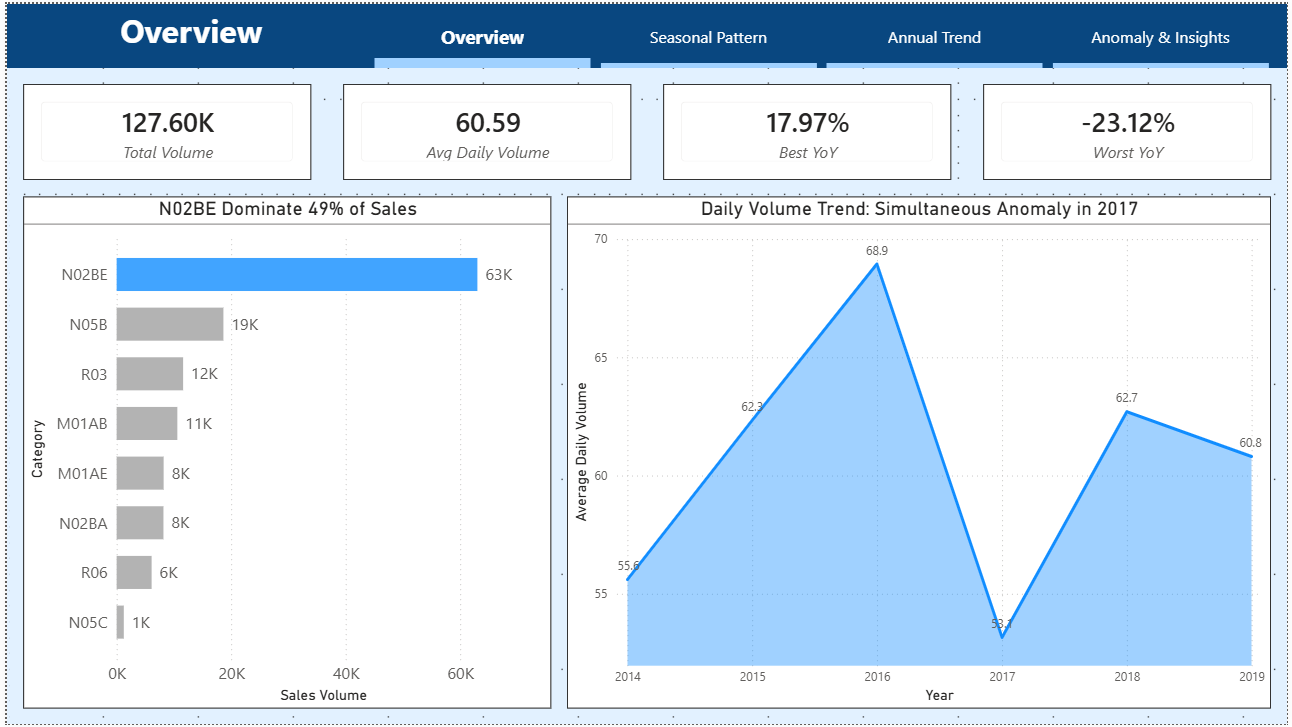

What the dashboard file says about the page in this screenshot:
{"tool":"powerbi","page":{"name":"Overview","canvas":[1280,720],"ordinal":0},"visuals":[{"type":"cardVisual","fields":{"Data":["salesdaily.Total Volume"]},"box":[16,80,288,96],"z":0},{"type":"cardVisual","fields":{"Data":["salesdaily.Avg Daily Datum"]},"box":[336,80,288,96],"z":1000},{"type":"barChart","title":"N02BE Dominate 49% of Sales","fields":{"Category":["salesdaily.Attribute"],"Y":["Sum(salesdaily.Value)"]},"box":[16,192,528,512],"z":2000},{"type":"lineChart","title":"Daily Volume Trend: Simultaneous Anomaly in 2017","fields":{"Category":["salesdaily.datum.Variation.Date Hierarchy.Year"],"Y":["salesdaily.Avg Daily Volume"]},"box":[560,192,704,512],"z":3000},{"type":"cardVisual","fields":{"Data":["salesdaily.Best YoY"]},"box":[656,80,288,96],"z":4000},{"type":"cardVisual","fields":{"Data":["salesdaily.Worst YoY"]},"box":[976,80,288,96],"z":5000},{"type":"shape","box":[0,0,1280,64],"z":5500},{"type":"textbox","box":[16,0,336,64],"z":6000},{"type":"pageNavigator","box":[368,0,896,64],"z":6001}]}

Visuals, with their boxes in screenshot pixels (x1, y1, x2, y2), scaled from the page's 1280x720 canvas onto the 1292x727 screenshot:
cardVisual - salesdaily.Total Volume: <region>16, 81, 307, 178</region>
cardVisual - salesdaily.Avg Daily Datum: <region>339, 81, 630, 178</region>
"N02BE Dominate 49% of Sales" barChart: <region>16, 194, 549, 711</region>
"Daily Volume Trend: Simultaneous Anomaly in 2017" lineChart: <region>565, 194, 1276, 711</region>
cardVisual - salesdaily.Best YoY: <region>662, 81, 953, 178</region>
cardVisual - salesdaily.Worst YoY: <region>985, 81, 1276, 178</region>
shape: <region>0, 0, 1291, 65</region>
textbox: <region>16, 0, 355, 65</region>
pageNavigator: <region>371, 0, 1276, 65</region>
